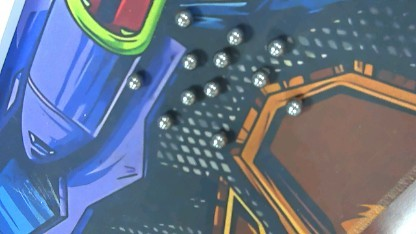ironball: (116, 71, 147, 92), (168, 7, 198, 27), (246, 66, 271, 88), (281, 95, 305, 116), (207, 132, 228, 153), (180, 51, 197, 75), (177, 88, 197, 107), (226, 27, 245, 47), (156, 111, 174, 132), (266, 36, 283, 58), (202, 80, 221, 98), (212, 50, 231, 67)
